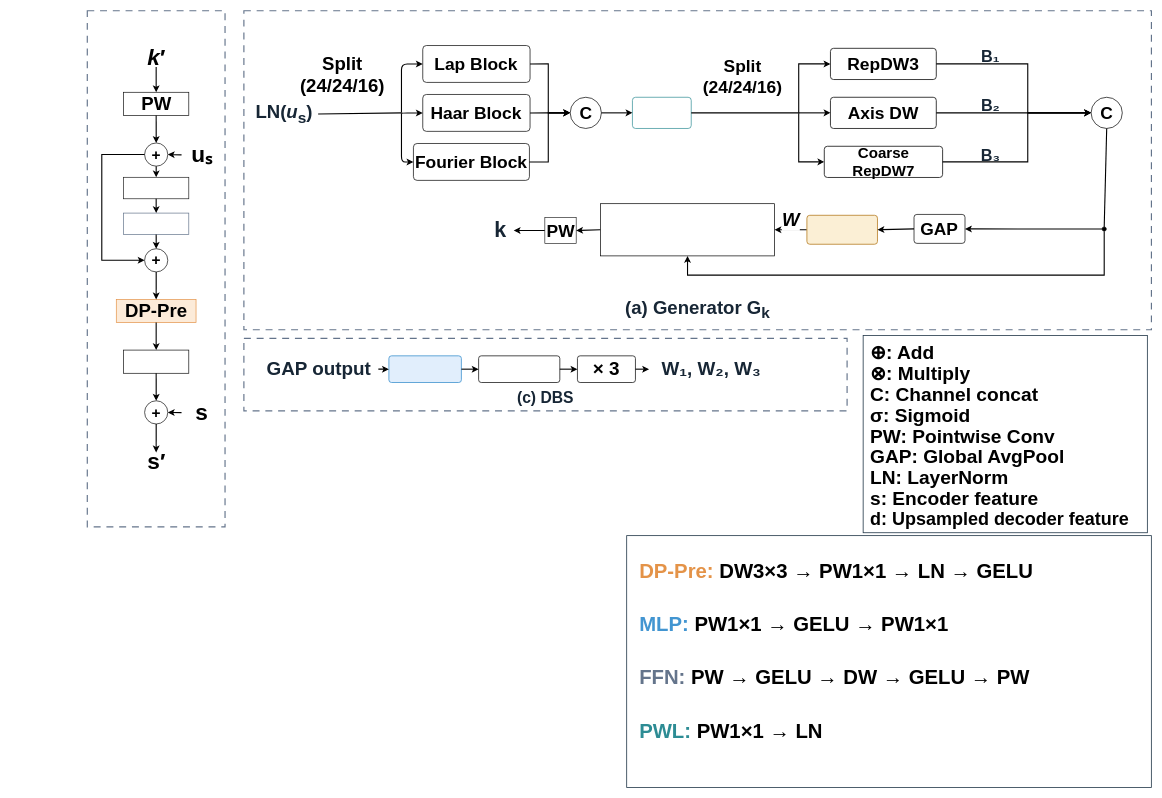
Image size: 1162x798. Some labels were removed from this diagram. The centre of each missing label's shape, as x and y in pixels:
"Concat(B₁ ⊙ W₁, B₂ ⊙ W₂, B₃ ⊙ W₃)" goes at point (687, 229).
"DBS" goes at point (842, 229).
"FFN" goes at point (156, 223).
"LN" goes at point (156, 188).
"MLP" goes at point (425, 369).
"PWL" goes at point (661, 113).
"Softmax" goes at point (519, 369).
"× γ" goes at point (156, 361).
